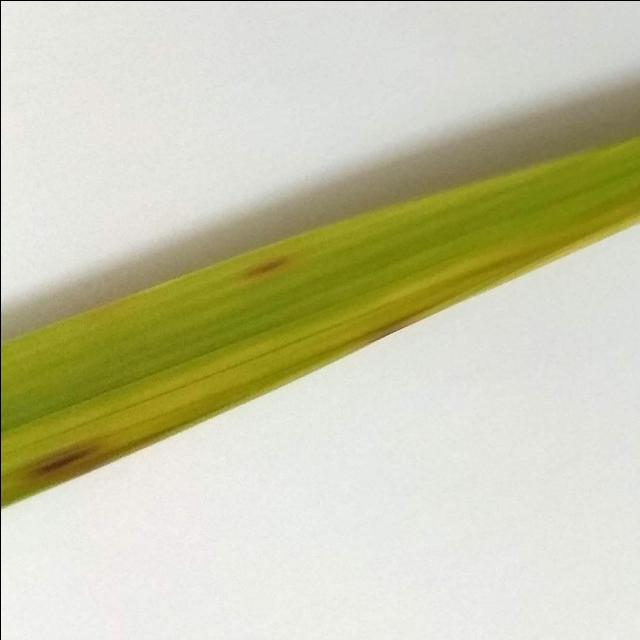Brown spot: (6, 432, 104, 483), (219, 251, 305, 285)
